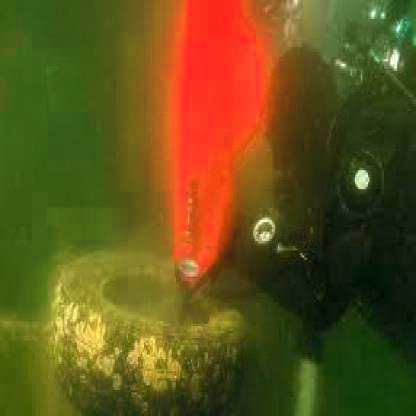tire: (32, 236, 252, 416)
